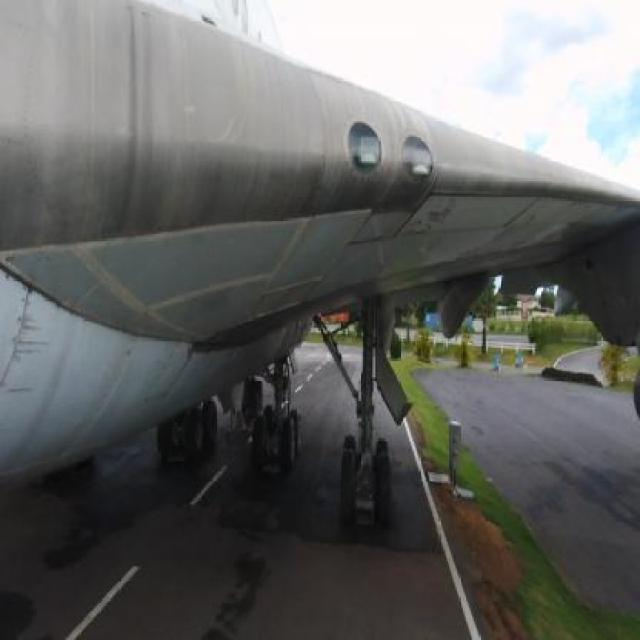Scartch: (412, 184, 466, 245)
